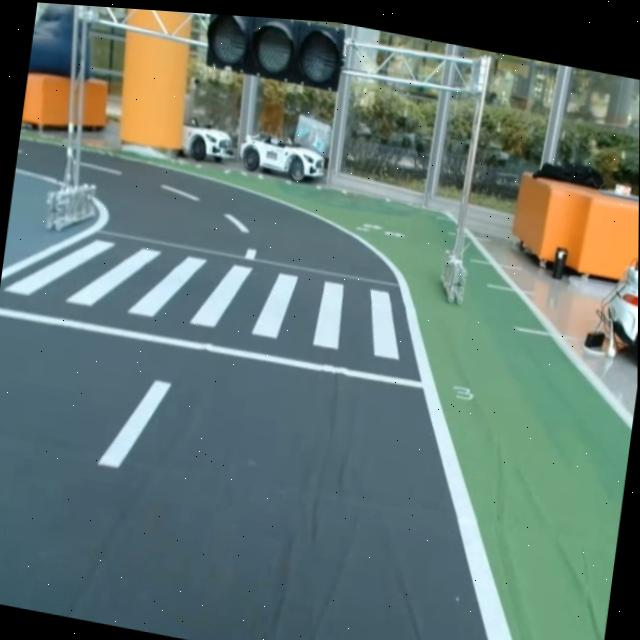traffic-light: (197, 13, 353, 98)
